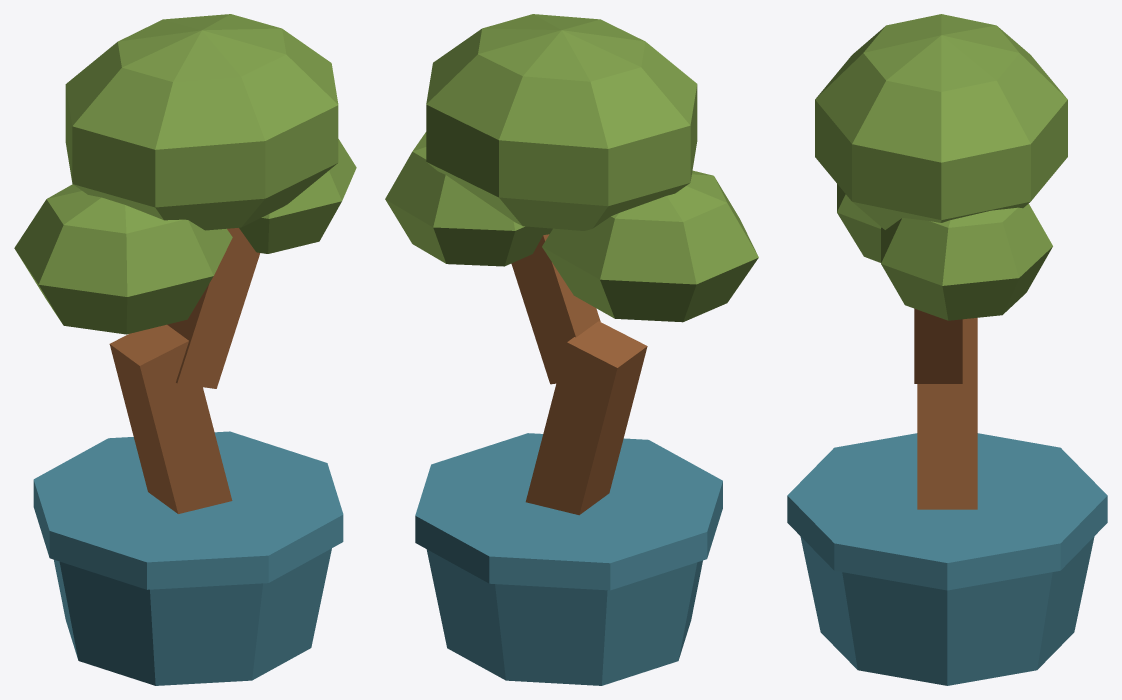
Rendered from bonsai.glb.
3 renders of one model, left to right at view 1: azimuth 30°, elevation 25°; view 2: azimuth 150°, elevation 25°; view 3: azimuth 270°, elevation 25°, orthographic.
Visible parts, largest first — view 1: Canopy, Pot, Trunk; view 2: Canopy, Pot, Trunk; view 3: Pot, Canopy, Trunk.
Boxes of the visible parts, <box> form: Canopy: <box>14,14,356,334</box>; Pot: <box>33,431,343,685</box>; Trunk: <box>109,228,260,513</box>; Canopy: <box>385,14,758,322</box>; Pot: <box>415,433,722,685</box>; Trunk: <box>511,234,647,515</box>; Pot: <box>787,433,1107,685</box>; Canopy: <box>815,14,1067,320</box>; Trunk: <box>914,308,977,509</box>.
Size of the model in its own units: 12.82 by 22 by 10.6.
